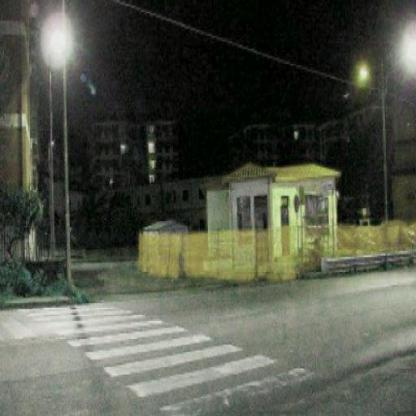crosswalk: (101, 334, 284, 408)
